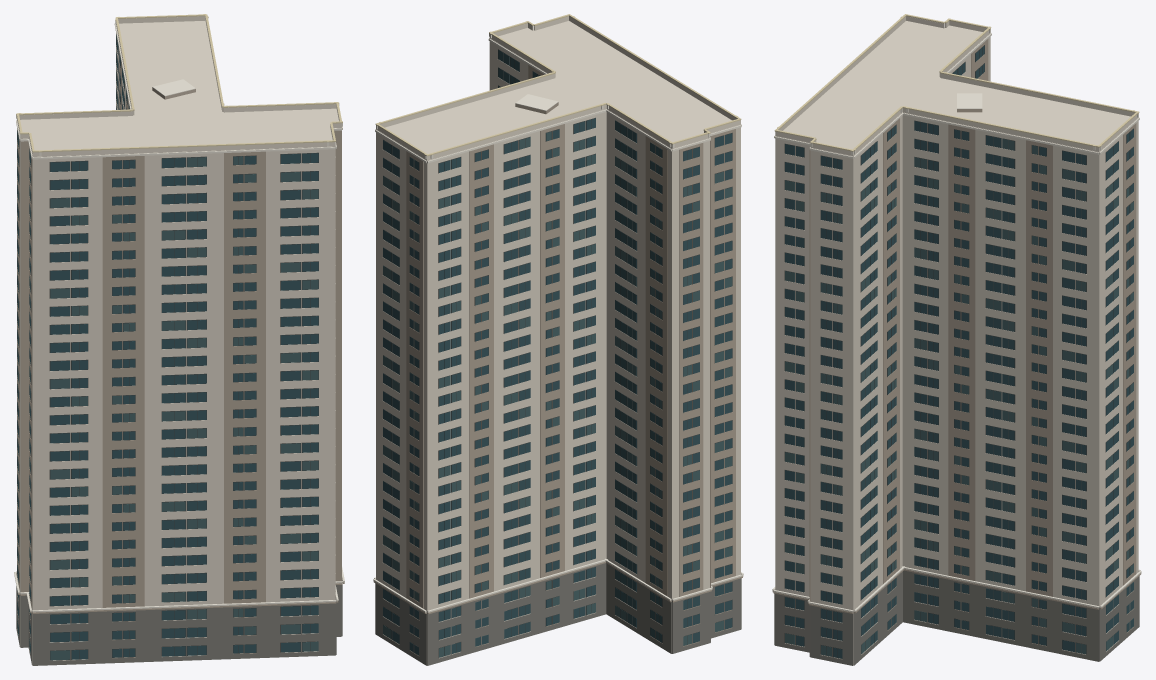
The model's file is bespoke-raemian-prestige-124.glb.
3 views of the same model, side by side, from view 1: azimuth 30°, elevation 25°; view 2: azimuth 150°, elevation 25°; view 3: azimuth 270°, elevation 25° (orthographic).
Visible parts, largest first — view 1: Prestige_warm_ivory_rendered_wall010, Prestige_wide_taupe_pilasters010, Prestige_recessed_blue_green_window010, Prestige_dark_bronze_thin_window_frame010, Prestige_dark_brown_grey_stone_base010, Prestige_muted_green_window_pair010, Prestige_pale_limestone_band010, Prestige_cream_gold_crown_coping010; view 2: Prestige_warm_ivory_rendered_wall010, Prestige_wide_taupe_pilasters010, Prestige_recessed_blue_green_window010, Prestige_dark_bronze_thin_window_frame010, Prestige_dark_brown_grey_stone_base010, Prestige_muted_green_window_pair010, Prestige_pale_limestone_band010, Prestige_cream_gold_crown_coping010; view 3: Prestige_warm_ivory_rendered_wall010, Prestige_recessed_blue_green_window010, Prestige_wide_taupe_pilasters010, Prestige_dark_bronze_thin_window_frame010, Prestige_dark_brown_grey_stone_base010, Prestige_muted_green_window_pair010, Prestige_pale_limestone_band010, Prestige_cream_gold_crown_coping010.
Boxes of the visible parts, left/top/right/bottom form: Prestige_warm_ivory_rendered_wall010: left=17, top=16, right=341, bottom=664; Prestige_wide_taupe_pilasters010: left=16, top=51, right=344, bottom=658; Prestige_recessed_blue_green_window010: left=17, top=35, right=318, bottom=659; Prestige_dark_bronze_thin_window_frame010: left=17, top=34, right=318, bottom=660; Prestige_dark_brown_grey_stone_base010: left=16, top=573, right=342, bottom=665; Prestige_muted_green_window_pair010: left=17, top=71, right=318, bottom=660; Prestige_pale_limestone_band010: left=14, top=18, right=344, bottom=612; Prestige_cream_gold_crown_coping010: left=16, top=14, right=342, bottom=152; Prestige_warm_ivory_rendered_wall010: left=376, top=16, right=740, bottom=665; Prestige_wide_taupe_pilasters010: left=373, top=65, right=743, bottom=656; Prestige_recessed_blue_green_window010: left=383, top=50, right=732, bottom=655; Prestige_dark_bronze_thin_window_frame010: left=383, top=49, right=732, bottom=657; Prestige_dark_brown_grey_stone_base010: left=375, top=563, right=741, bottom=665; Prestige_muted_green_window_pair010: left=383, top=86, right=732, bottom=657; Prestige_pale_limestone_band010: left=373, top=33, right=743, bottom=612; Prestige_cream_gold_crown_coping010: left=375, top=14, right=741, bottom=156; Prestige_warm_ivory_rendered_wall010: left=775, top=16, right=1138, bottom=665; Prestige_recessed_blue_green_window010: left=785, top=46, right=1133, bottom=658; Prestige_wide_taupe_pilasters010: left=772, top=39, right=1141, bottom=646; Prestige_dark_bronze_thin_window_frame010: left=784, top=45, right=1133, bottom=658; Prestige_dark_brown_grey_stone_base010: left=774, top=570, right=1139, bottom=665; Prestige_muted_green_window_pair010: left=785, top=139, right=1133, bottom=656; Prestige_pale_limestone_band010: left=772, top=27, right=1141, bottom=612; Prestige_cream_gold_crown_coping010: left=774, top=14, right=1139, bottom=151.
Size of the model in its own units: 45.86 by 79.3 by 51.54.
